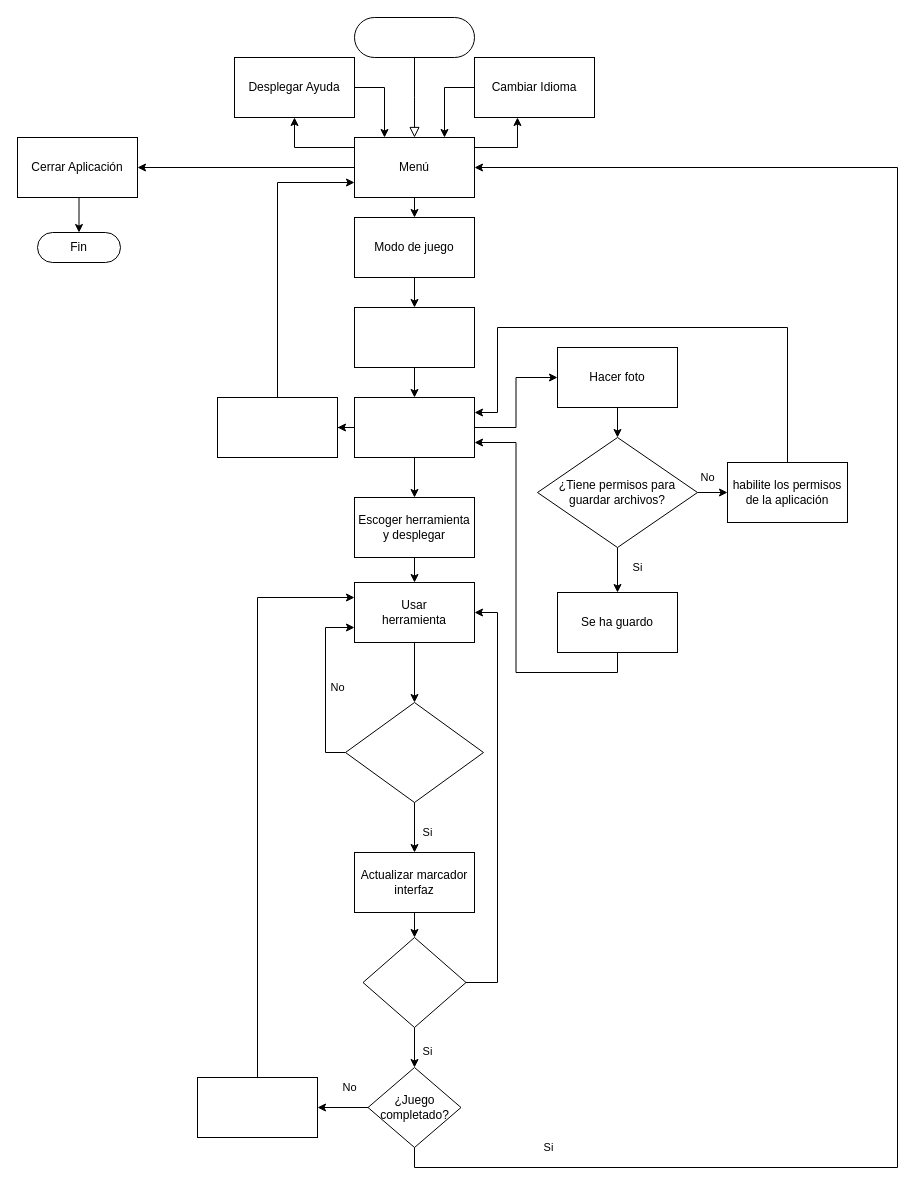
The diagram is 923 pixels wide and 1193 high, and some of its shapes have lost their labels. Each missing label, with the box of its shape:
Botón "Atrás": (216, 396, 338, 458)
Crecimiento de una planta: (354, 306, 474, 368)
Iniciar aplicación: (354, 16, 474, 58)
Iniciar AR y interfaz de juego: (354, 396, 474, 458)
Siguiente Fase: (196, 1076, 318, 1138)
¿Fase completada?: (362, 936, 466, 1028)
¿Las partículas chocan en la zona correcta?: (344, 702, 484, 802)
